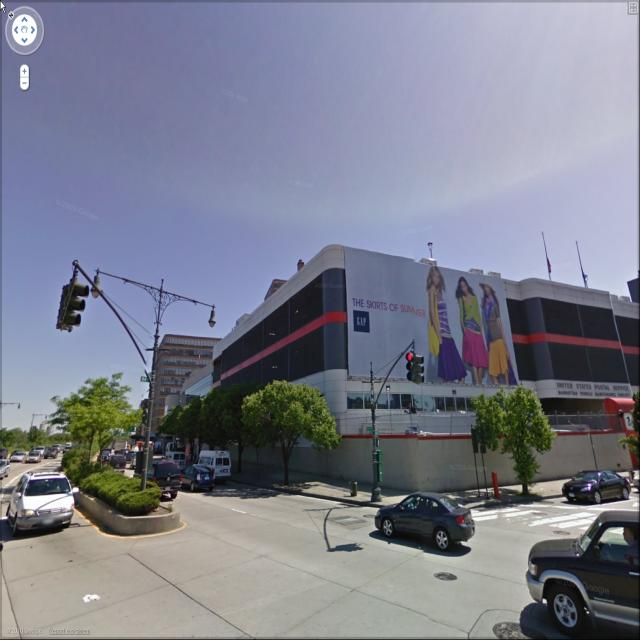b_1: (293, 254, 637, 472), (143, 323, 244, 428)
